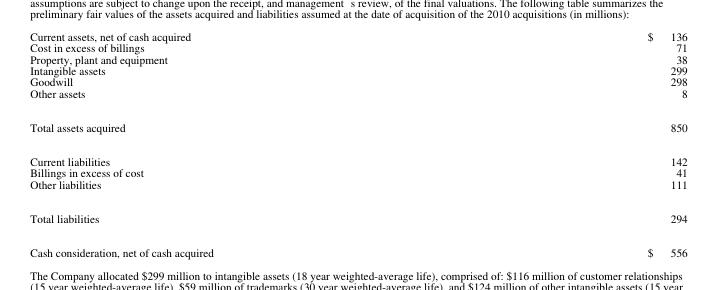table: (29, 29, 686, 259)
table column: (29, 29, 429, 259), (429, 29, 686, 259)
table row: (29, 110, 686, 144), (29, 201, 686, 235), (29, 235, 686, 259), (29, 87, 686, 110), (29, 178, 686, 201), (29, 144, 686, 166), (29, 29, 686, 41), (29, 41, 686, 53), (29, 64, 686, 76), (29, 166, 686, 178), (29, 53, 686, 64), (29, 76, 686, 87)
